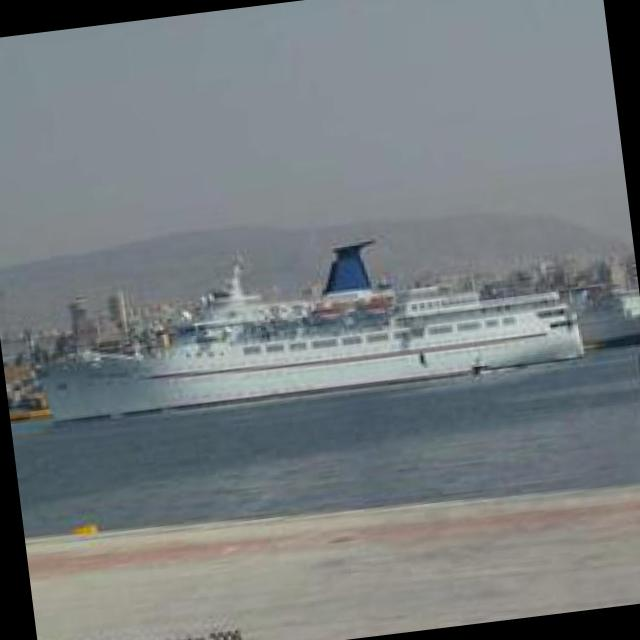boat: (35, 280, 588, 424)
